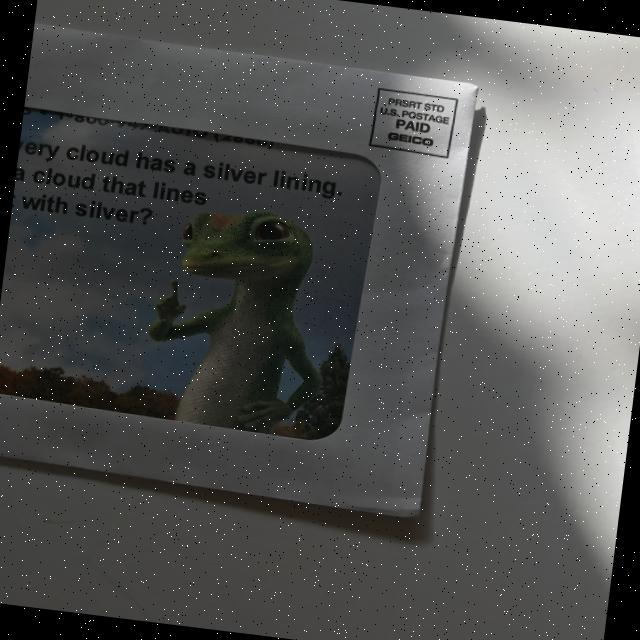paper: (0, 22, 479, 519)
